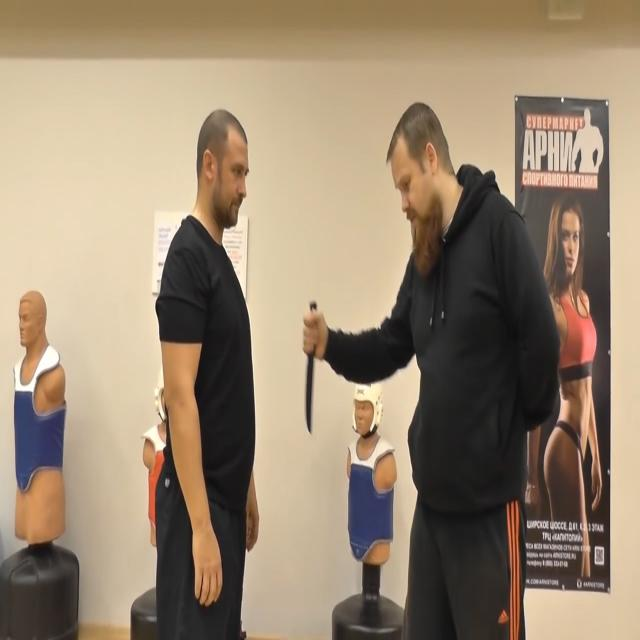knife: (304, 352, 320, 436)
